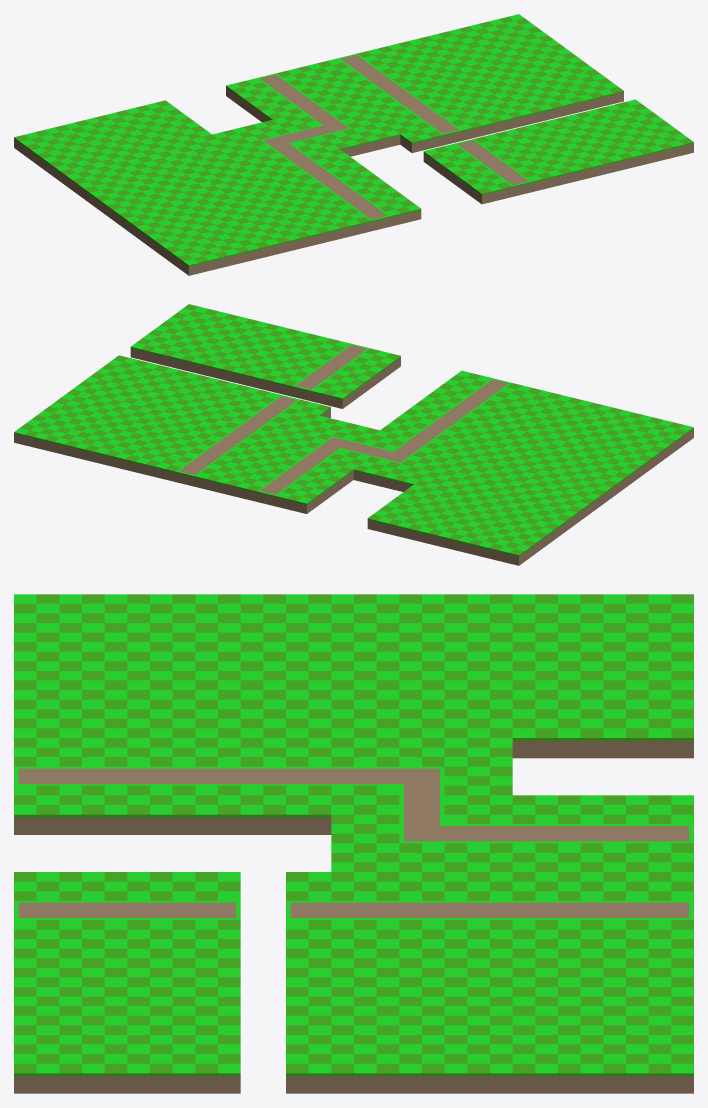
Rendered from Map 05.fbx.
3 renders of one model, top to bottom at view 1: azimuth 30°, elevation 25°; view 2: azimuth 150°, elevation 25°; view 3: azimuth 270°, elevation 25°, orthographic. The views are drawn at different scales.
Parts seen in each view (by area): view 1: Plane.008; view 2: Plane.008; view 3: Plane.008.
Boxes of the visible parts, x1=… form: Plane.008: x1=14, y1=14, x2=693, y2=275; Plane.008: x1=14, y1=304, x2=693, y2=565; Plane.008: x1=14, y1=594, x2=693, y2=1093.
Bounding box in the file's own units: 500 × 10 × 300.
